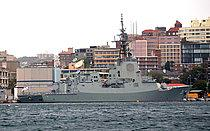MIL_Ship: (17, 38, 192, 103)
